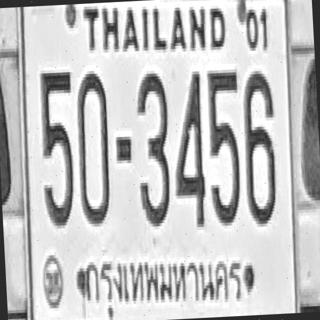N00: (74, 69, 112, 226)
N03: (134, 70, 173, 227)
N04: (170, 68, 208, 228)
N05: (38, 69, 78, 226), (205, 68, 244, 225)
N06: (242, 69, 280, 226)
N09: (0, 56, 12, 206)
P04: (79, 244, 248, 316)
